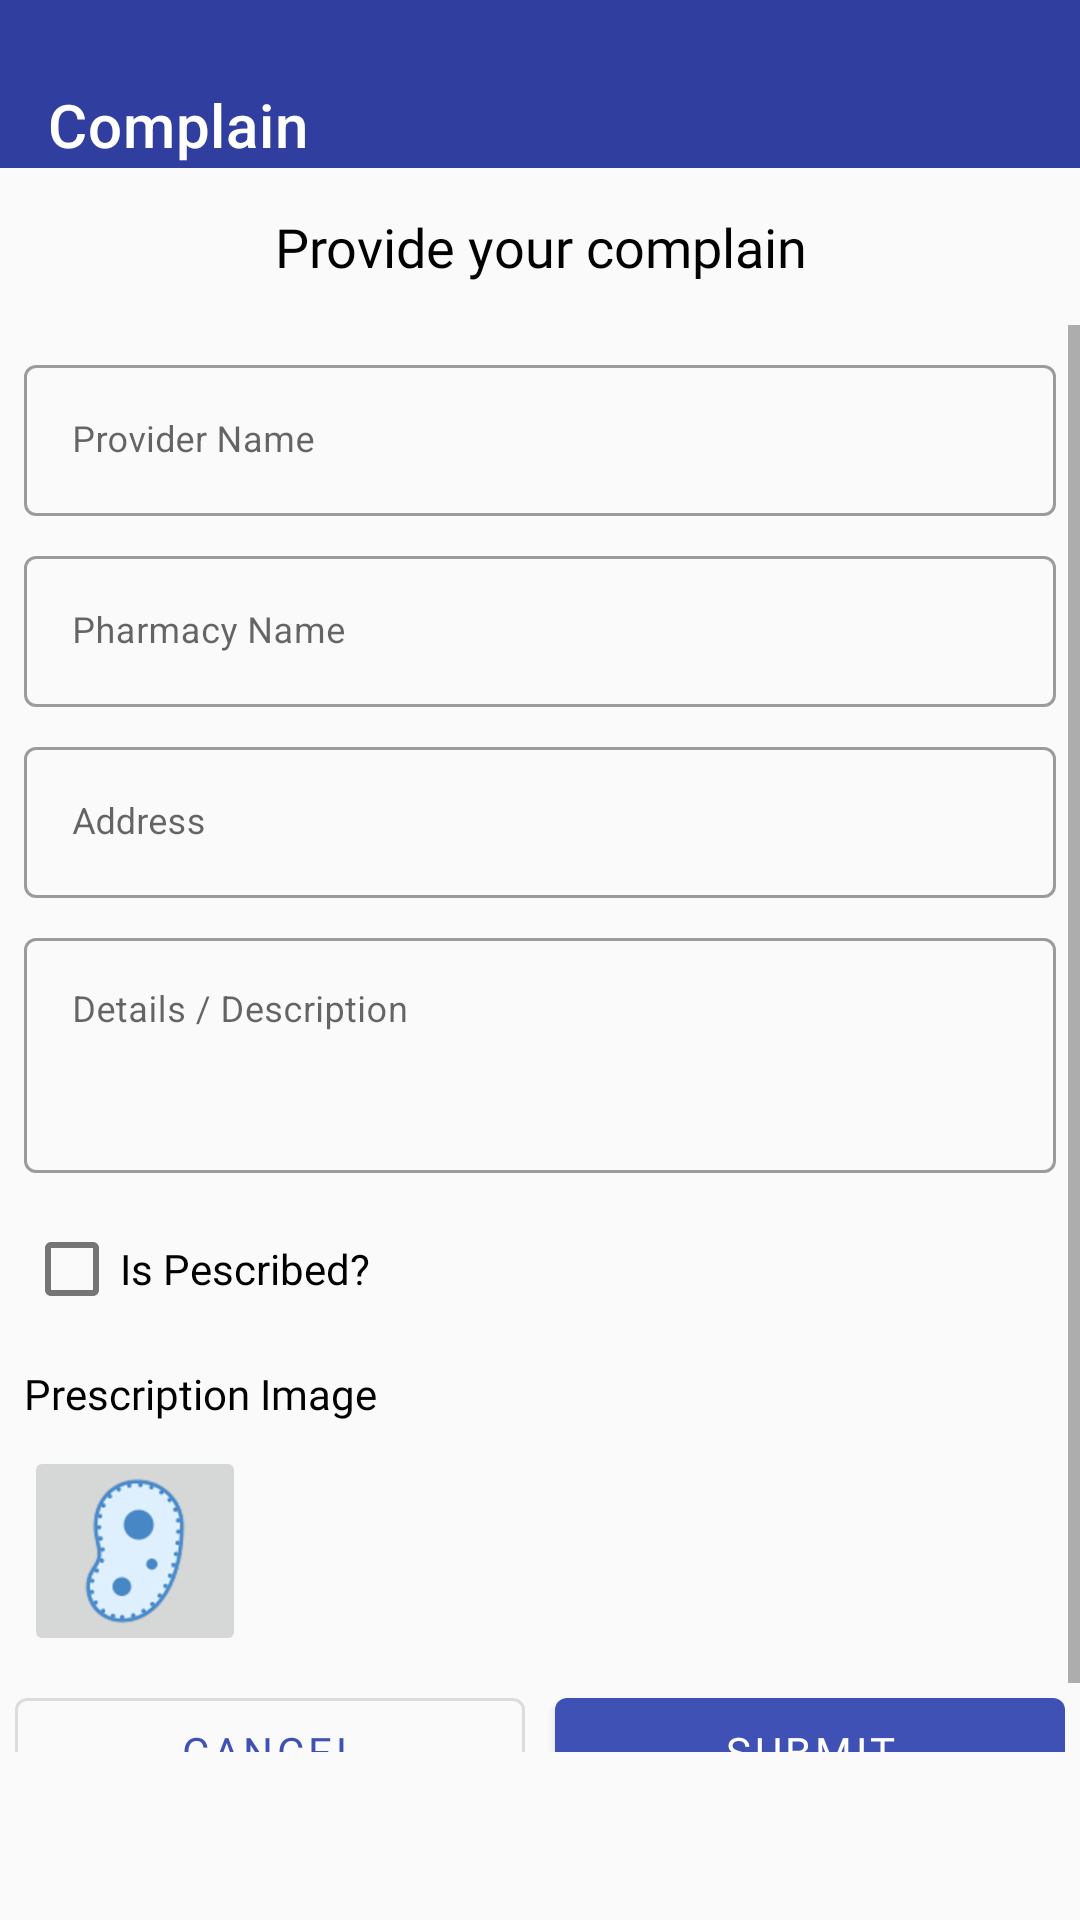

Point at icon controls on the screen. Image size 1080×1920, points as (x=x, y=y).
bacteria: (x=135, y=1551)
